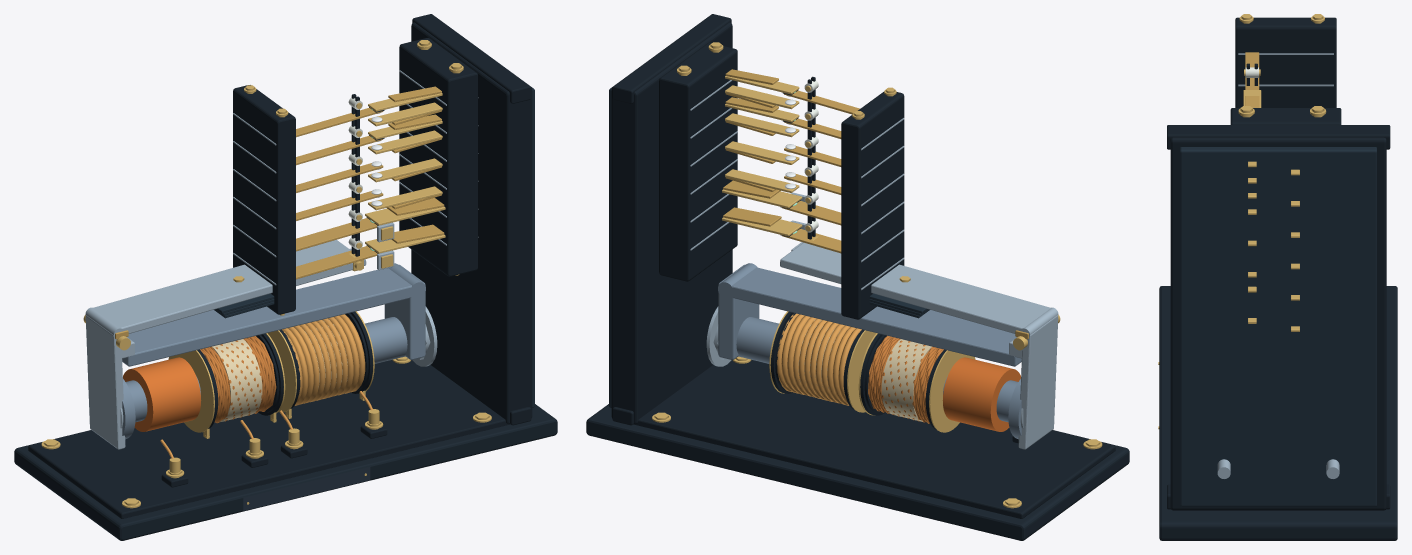
The model's file is JWJXC-H125-0.44-picked.glb.
3 renders of one model, left to right at view 1: azimuth 30°, elevation 25°; view 2: azimuth 150°, elevation 25°; view 3: azimuth 270°, elevation 25°, orthographic. The views are drawn at different scales.
Parts seen in each view (by area): view 1: base (×6), contactBlock (×2), coil (×5), yoke (×2), armature (×2), common (×6), copperSleeve, back (×4), core; view 2: base (×5), contactBlock (×2), coil (×5), armature (×2), yoke (×2), copperSleeve, back (×4), core, front; view 3: base (×4), contactBlock (×2), common.
Part boxes in pixels (<box>): base (×6): <box>14,14,557,540</box>; contactBlock (×2): <box>233,38,477,314</box>; coil (×5): <box>168,314,365,432</box>; yoke (×2): <box>122,264,425,366</box>; armature (×2): <box>85,240,352,449</box>; common (×6): <box>296,107,383,279</box>; copperSleeve: <box>123,357,201,431</box>; back (×4): <box>368,102,442,210</box>; core: <box>125,317,407,422</box>; base (×5): <box>586,14,1129,540</box>; contactBlock (×2): <box>659,42,904,319</box>; coil (×5): <box>776,313,975,432</box>; armature (×2): <box>780,242,1058,449</box>; yoke (×2): <box>718,264,1021,366</box>; copperSleeve: <box>942,357,1020,431</box>; back (×4): <box>725,85,799,192</box>; core: <box>736,317,1018,422</box>; front: <box>723,207,781,226</box>; base (×4): <box>1159,125,1397,540</box>; contactBlock (×2): <box>1230,17,1341,124</box>; common: <box>1245,52,1259,89</box>.
Size of the model in its own units: 6.05 by 4.73 by 2.55.
